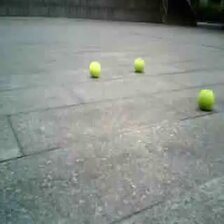tennis: (198, 88, 216, 110), (88, 60, 101, 77), (134, 58, 144, 73)
